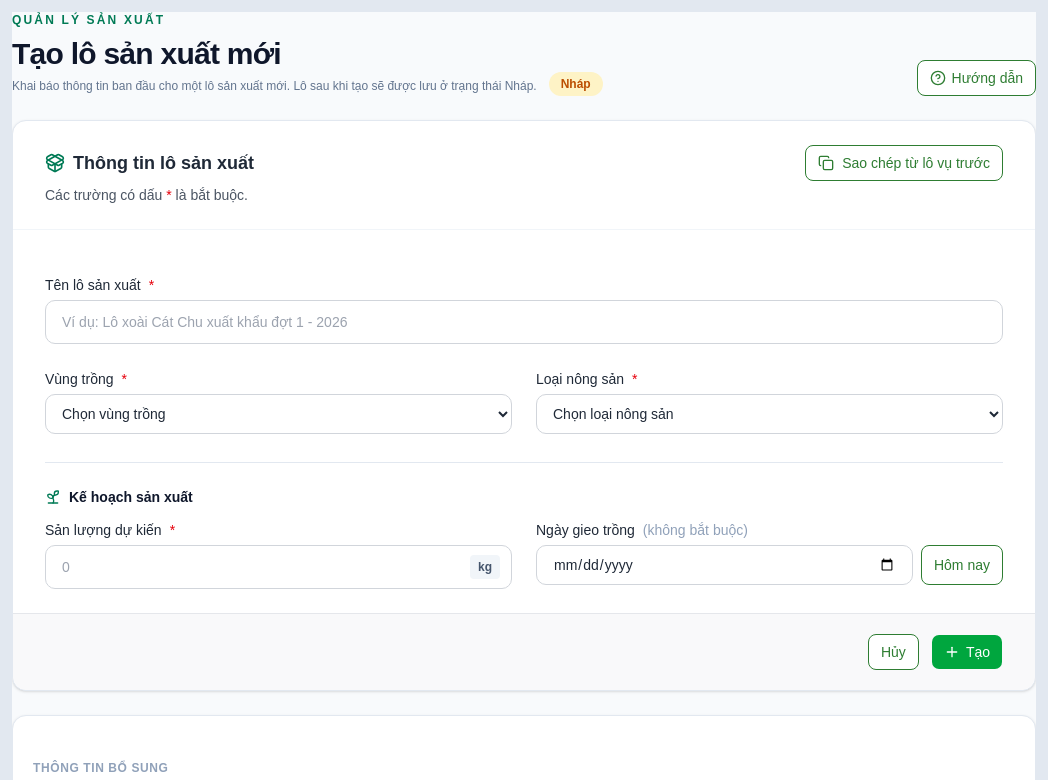
Test: NCL-02-CN-007 - CreateProductionLotPage gộp tạo mới + tạo từ mẫu › chọn lô mẫu gọi clone-preview, prefill form và khóa vùng trồng + loại nông sản
The width and height of the screenshot is (1048, 780).
Note: Mở chế độ sao chép rồi chọn lô mẫu từ dropdown tên lô.
Click the button "Sao chép từ lô vụ trước" at (904, 163), box left=805, top=145, right=1003, bottom=181
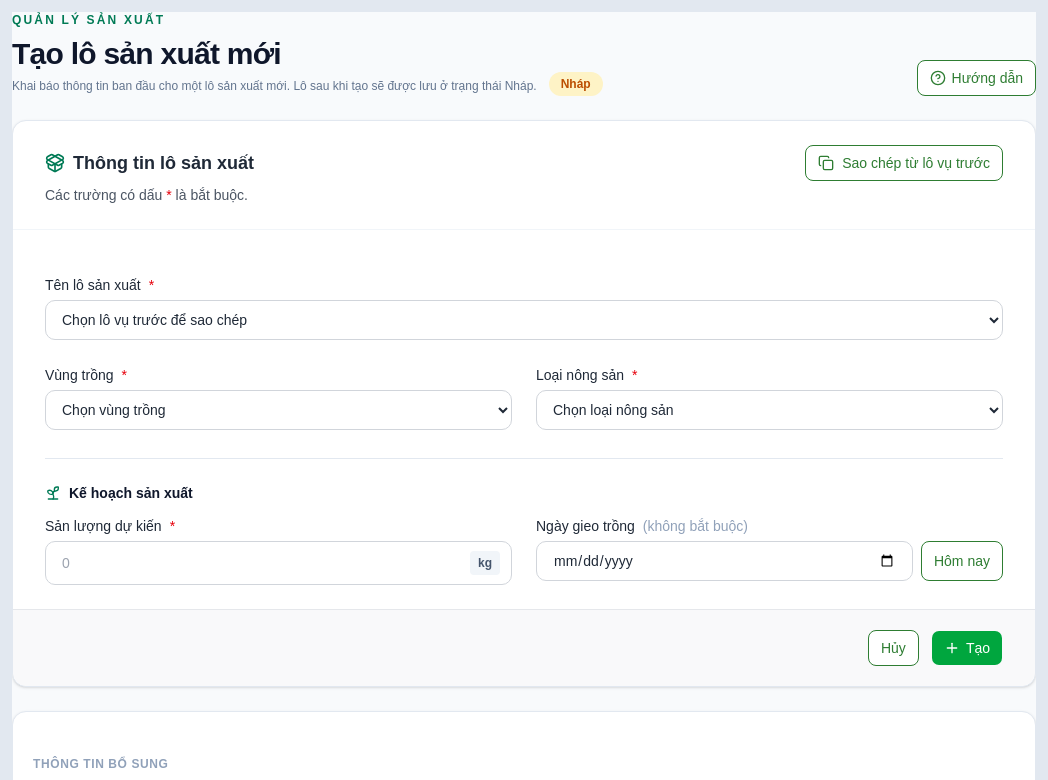
Select "Lô lúa vụ hè 2025 · Vùng trồng số 1 · Đã duyệt" in the dropdown labelled "Tên lô sản xuất *" at (524, 320), box left=45, top=300, right=1003, bottom=340
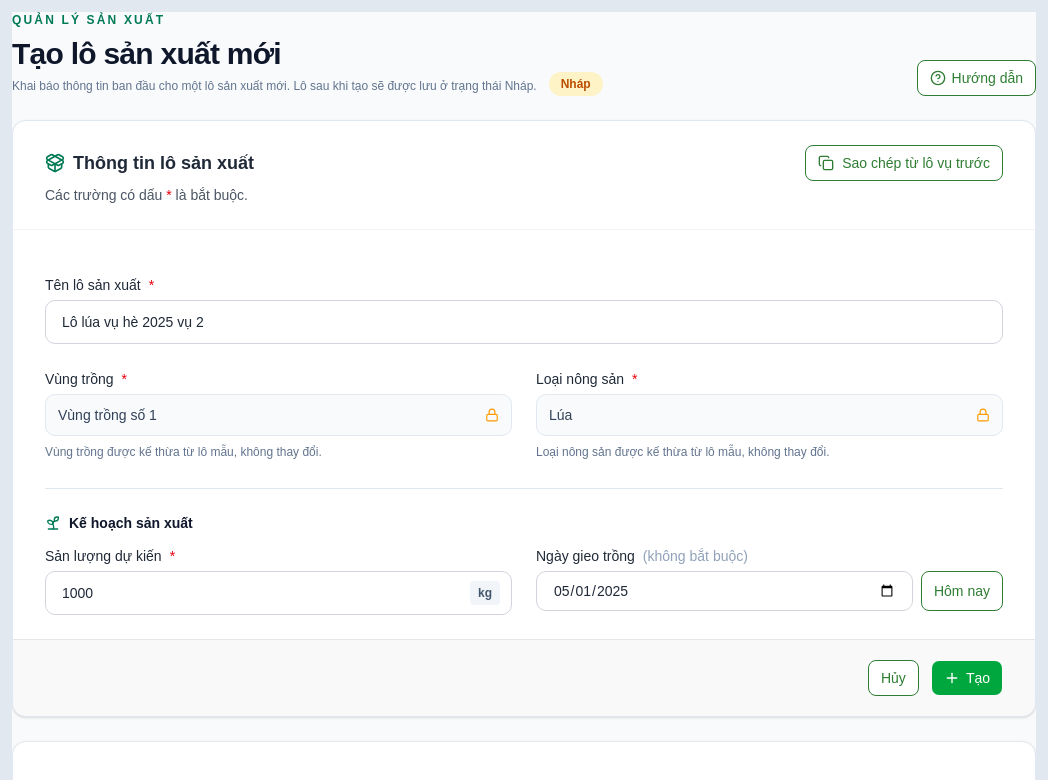
Expected: the text "Vùng trồng số 1" is shown, left=58, top=405, right=157, bottom=425
Expected: the text "Lúa" is shown, left=549, top=405, right=572, bottom=425
Expected: the field showing "Lô lúa vụ hè 2025 vụ 2" is shown, left=45, top=300, right=1003, bottom=344
